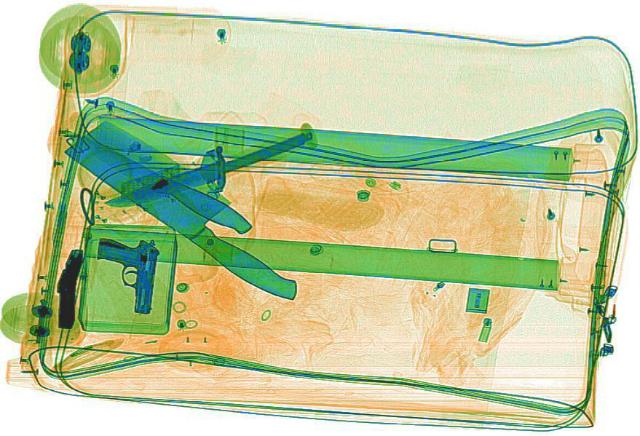Gun: (88, 235, 162, 313), (52, 247, 84, 325)
Knife: (48, 114, 340, 304), (55, 120, 259, 236), (100, 131, 316, 212)
